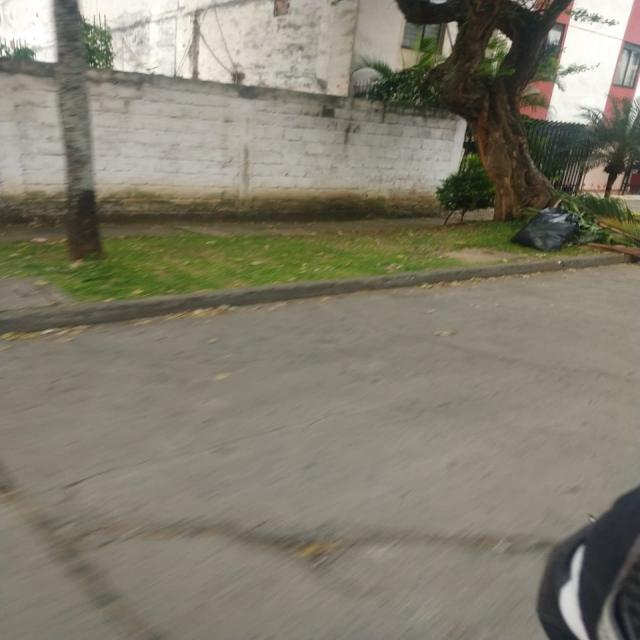Garbage_Bag: (509, 203, 577, 251)
